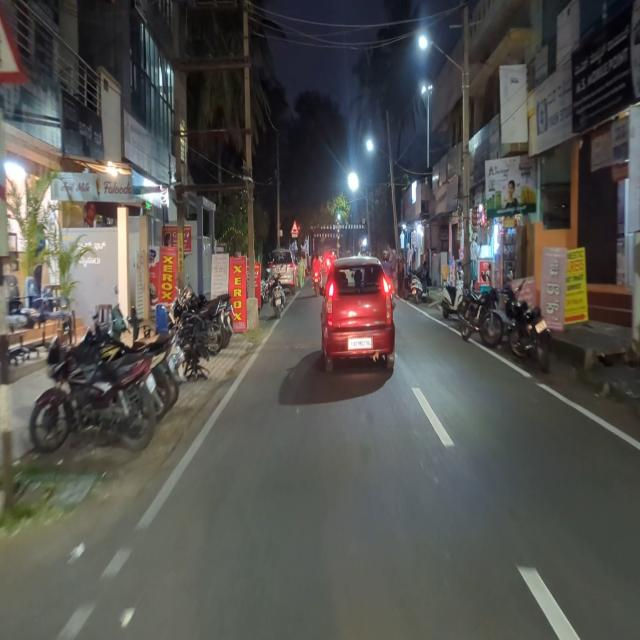bien_cam: (290, 220, 299, 234)
